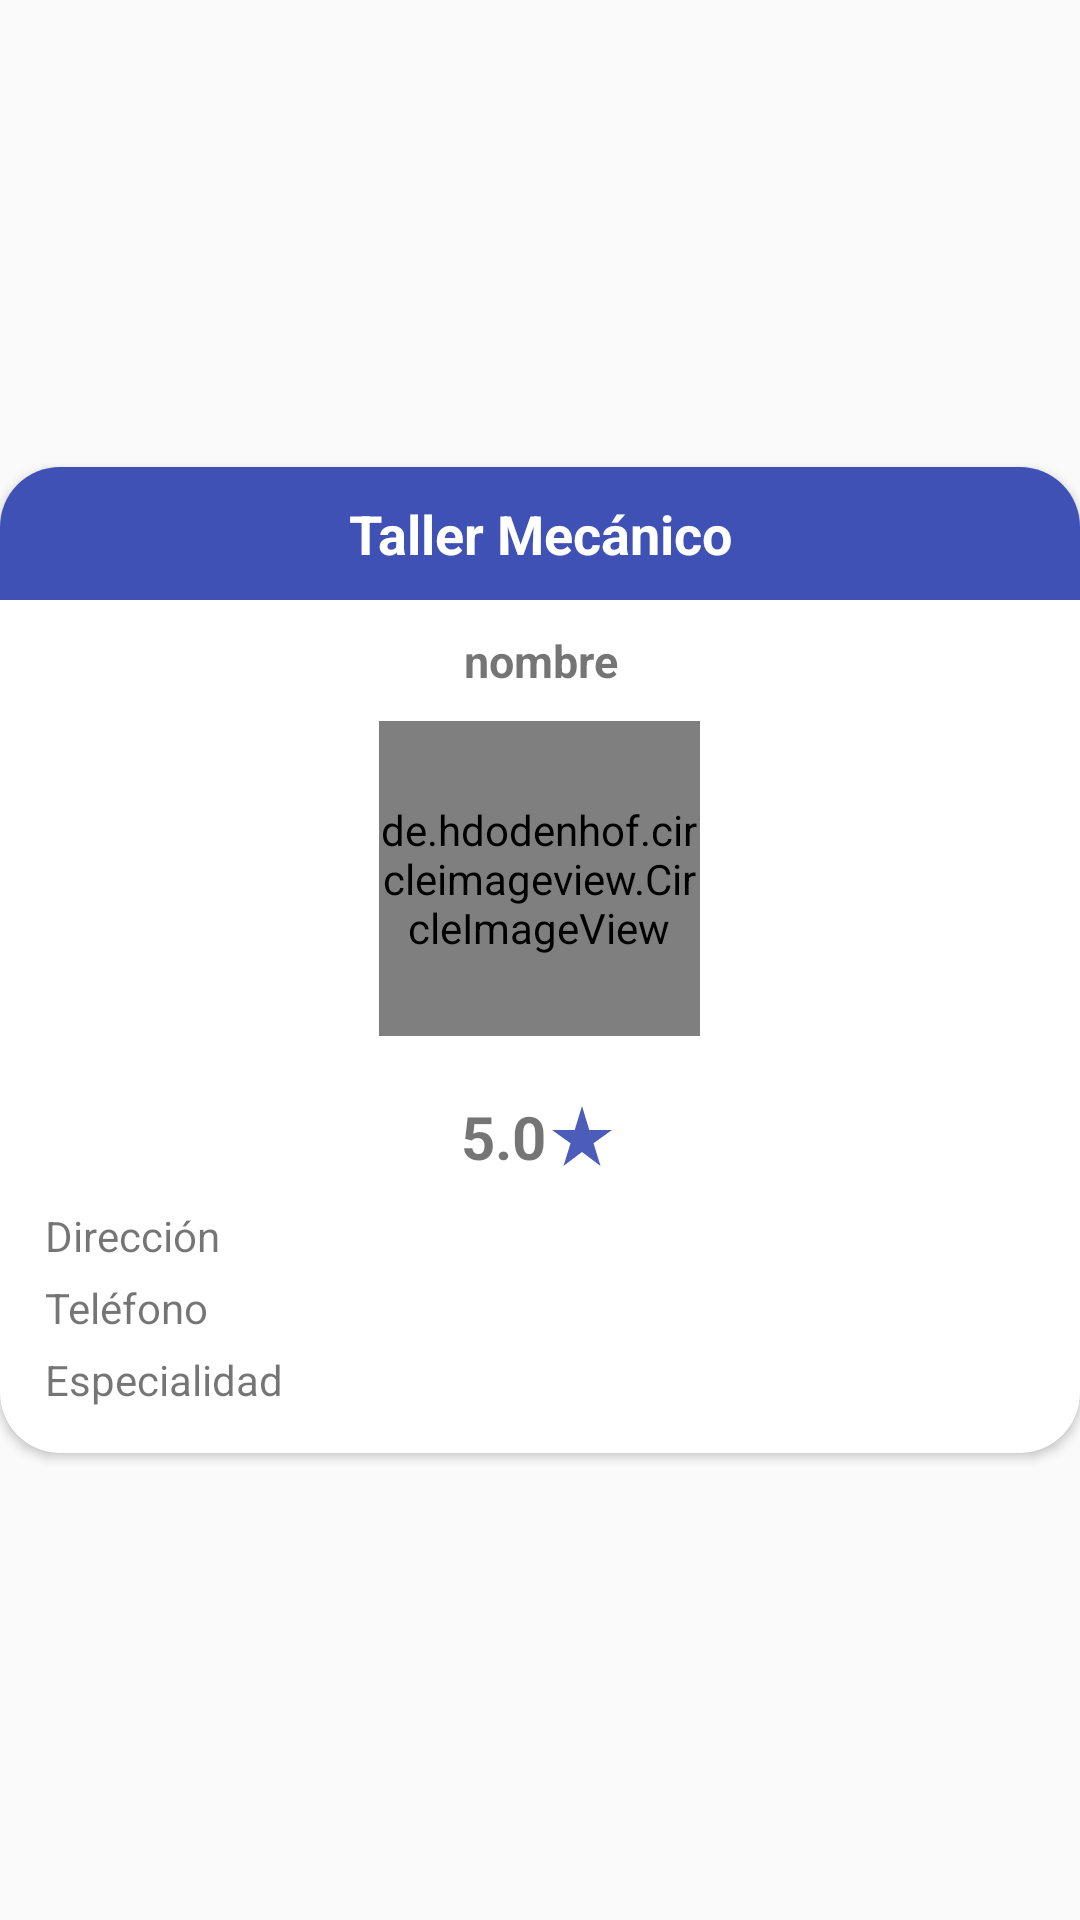

Named icons in this screenshot (1080px×1920px) and their bounding boxes, (x1, y1, x2, y2):
star rate: (552, 1106, 612, 1166)
